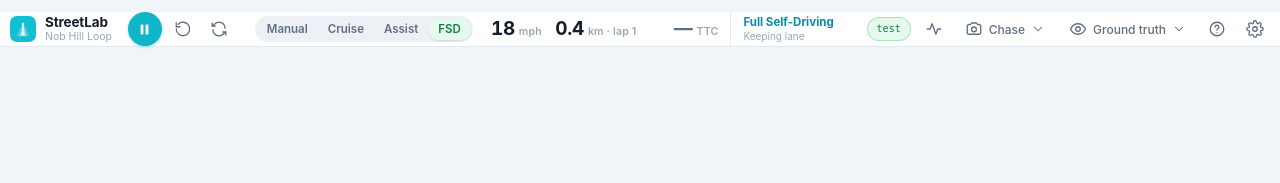
TopToolbar › disables only the ML item when no perception pipeline is running
Click the button titled "Perception source" at coordinates (1128, 29), box left=1061, top=14, right=1194, bottom=44
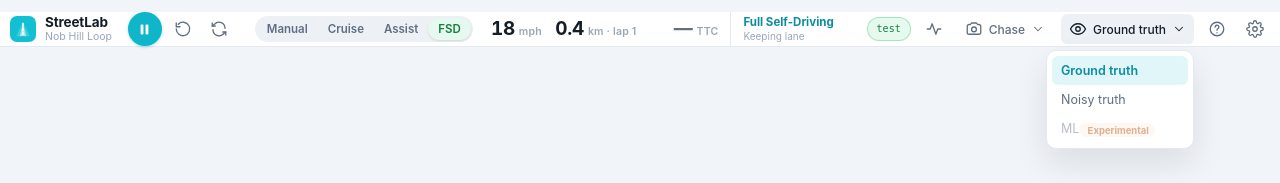
expect the menu item "ML Experimental" is disabled: met, box left=1052, top=114, right=1188, bottom=143
Click the menu item "Noisy truth" at coordinates (1120, 100), box left=1052, top=85, right=1188, bottom=114
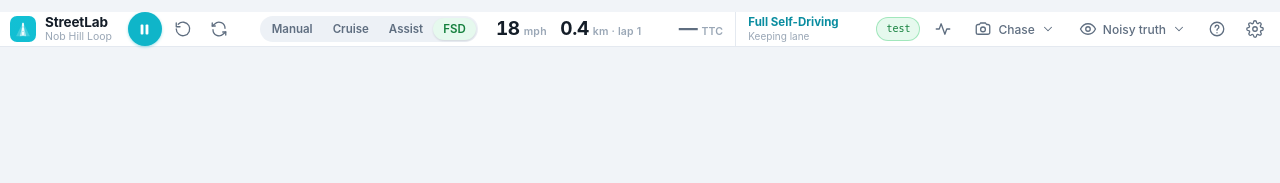
expect the button titled "Perception source" reads "Noisy truth": met, box left=1071, top=14, right=1194, bottom=44
